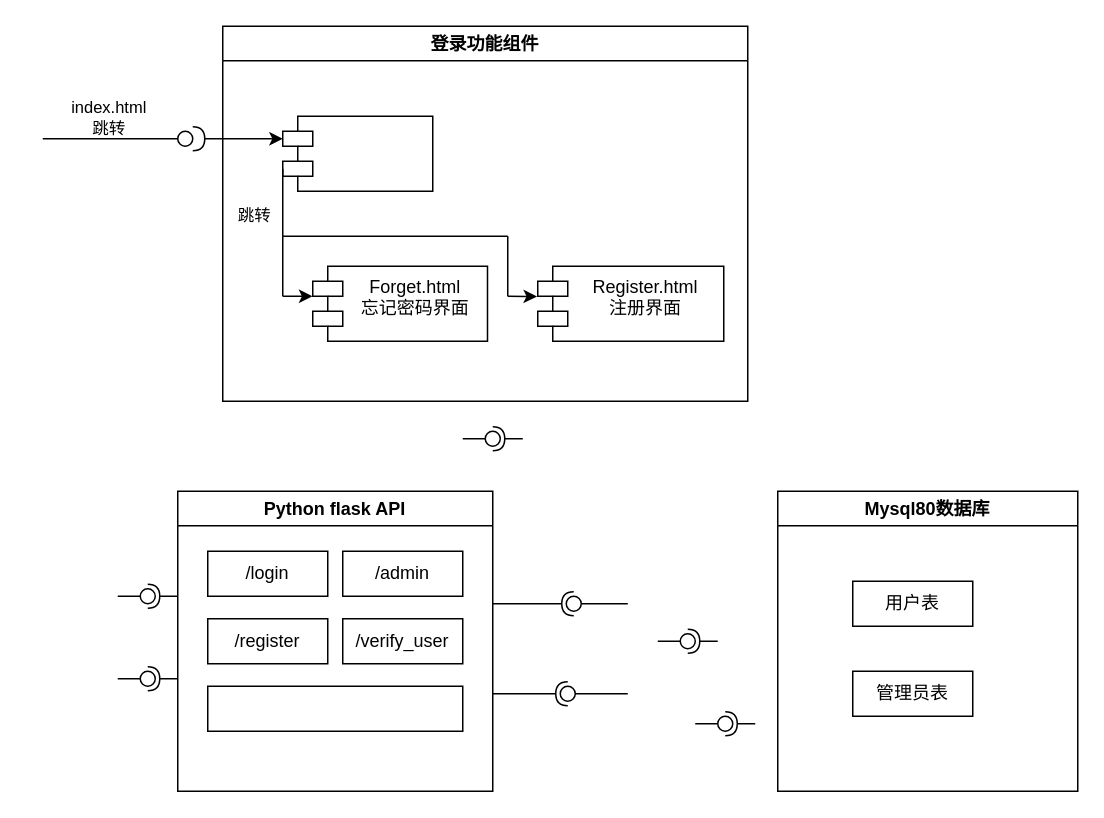
Image size: 1104x818. Some labels were removed from this diagram. The centre of each missing label's shape, as x and y in pixels:
/reset_password: (x=334, y=708)
Login.html 登录页面: (x=357, y=153)
